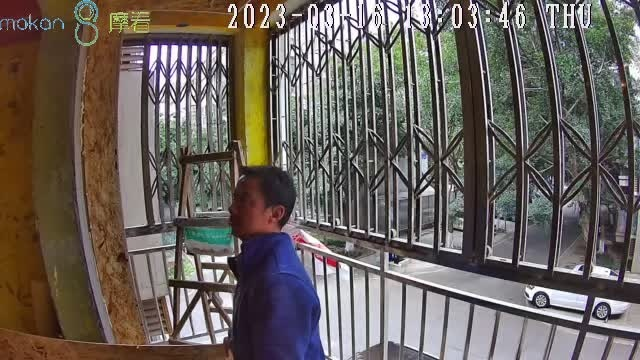people: (223, 167, 328, 360)
window: (119, 1, 639, 360)
